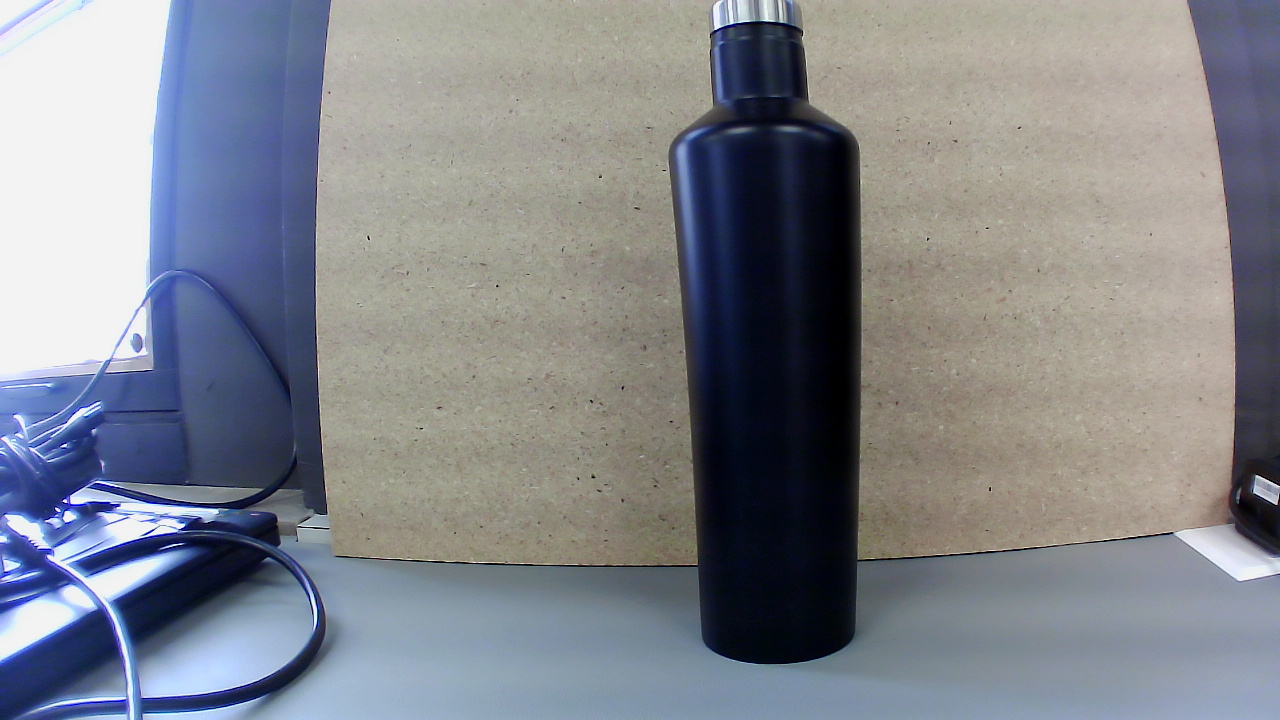neobottle: (657, 2, 868, 676)
